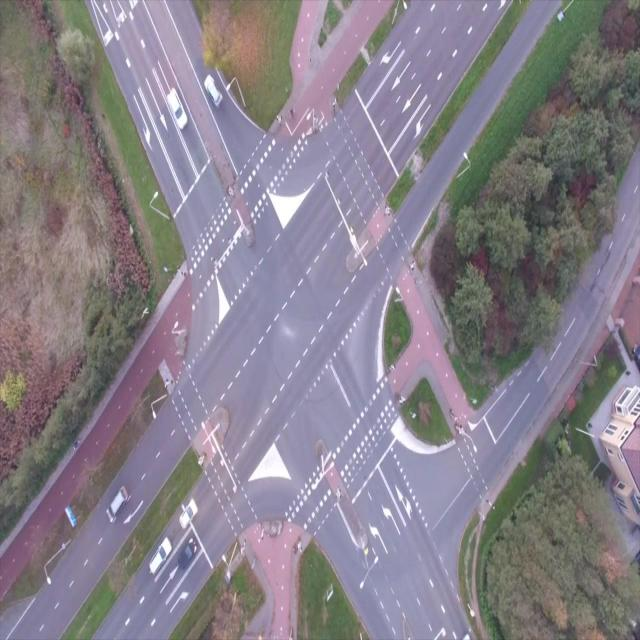car: (148, 533, 174, 575), (164, 86, 188, 129), (106, 485, 132, 522), (201, 70, 225, 108), (177, 537, 201, 573), (177, 496, 199, 529)
